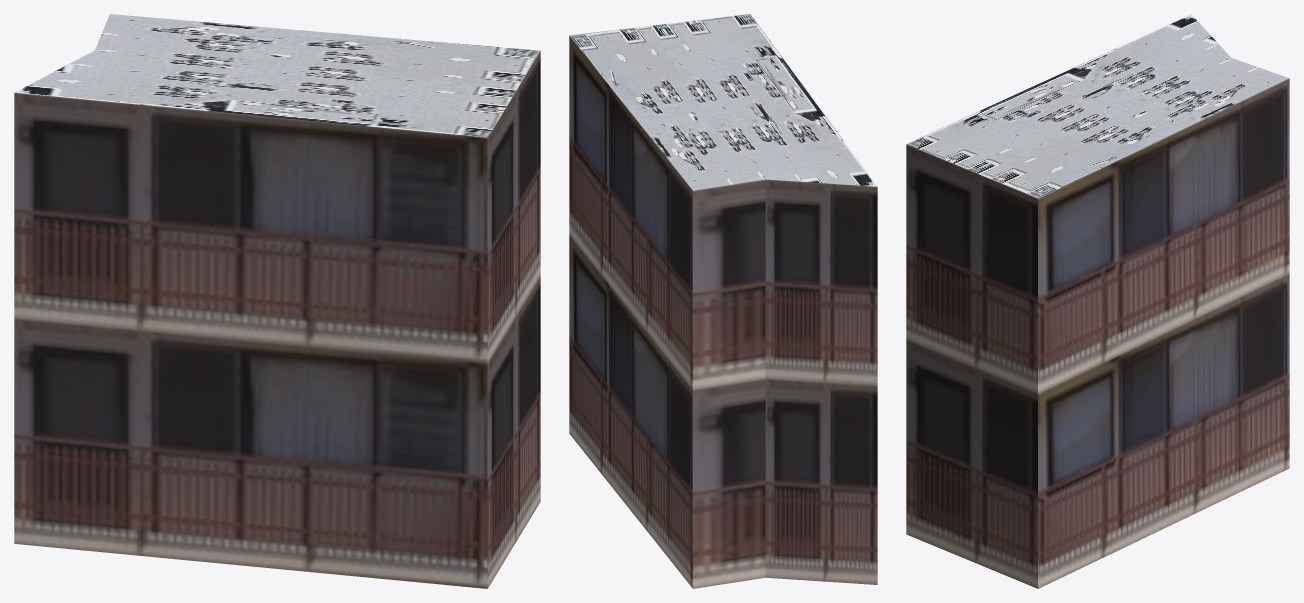
Rendered from ResTex__3693.fbx.
3 renders of one model, left to right at view 1: azimuth 30°, elevation 25°; view 2: azimuth 150°, elevation 25°; view 3: azimuth 270°, elevation 25°, orthographic. The views are drawn at different scales.
Parts seen in each view (by area): view 1: CityEngineMaterial_6_m, CityEngineMaterial_8_m; view 2: CityEngineMaterial_6_m, CityEngineMaterial_8_m; view 3: CityEngineMaterial_6_m, CityEngineMaterial_8_m.
Boxes of the visible parts, x1,y1,x2,y2 form: CityEngineMaterial_6_m: (14,51,540,588); CityEngineMaterial_8_m: (15,14,540,137); CityEngineMaterial_6_m: (569,36,877,588); CityEngineMaterial_8_m: (569,14,877,190); CityEngineMaterial_6_m: (906,78,1289,588); CityEngineMaterial_8_m: (907,14,1288,198).
Size of the model in its own units: 6.09 by 6 by 5.34.
Materials: 2 (2 with a texture image).
